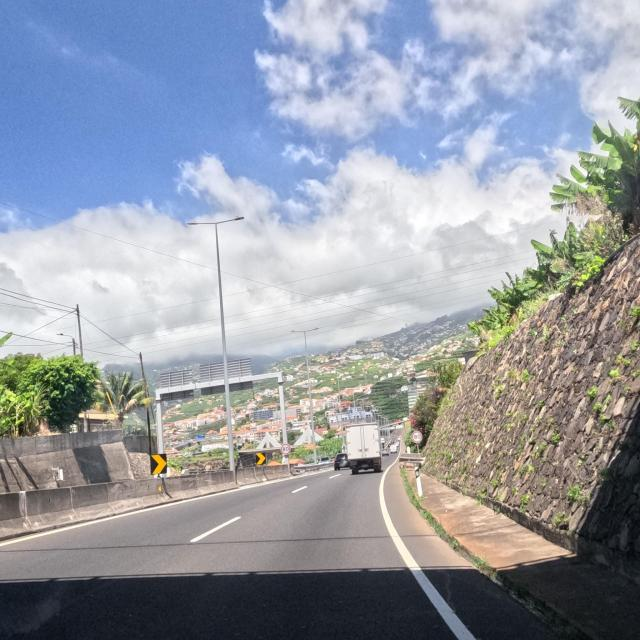car: (334, 452, 350, 470), (389, 444, 399, 454), (380, 446, 390, 456)
